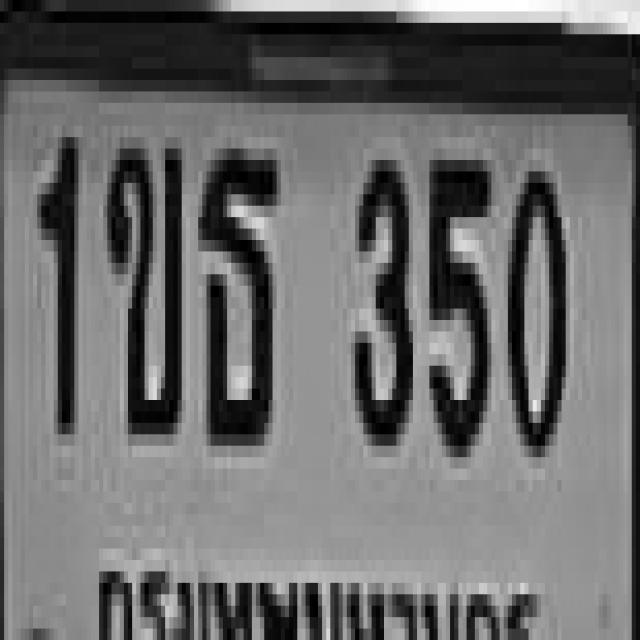0: (504, 160, 562, 446)
1: (37, 126, 74, 423)
11KhorKhai: (103, 137, 178, 423)
3: (351, 149, 409, 434)
33ThorThong: (196, 137, 279, 434)
5: (426, 148, 488, 446)
